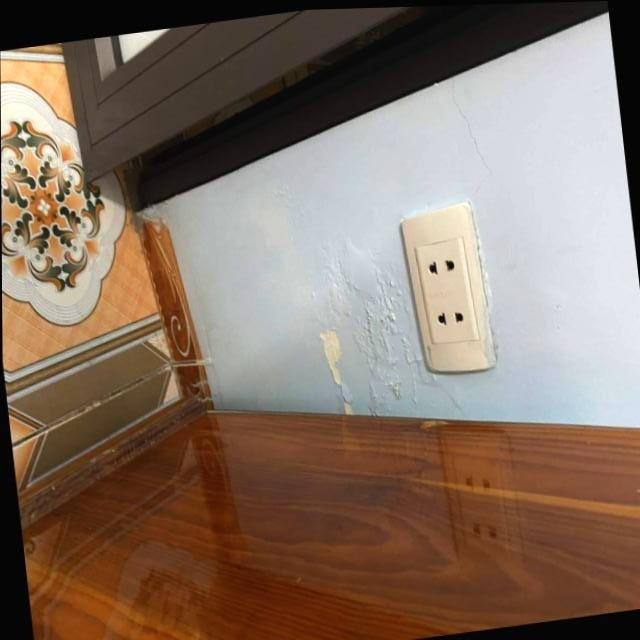outlet: (399, 197, 501, 380)
